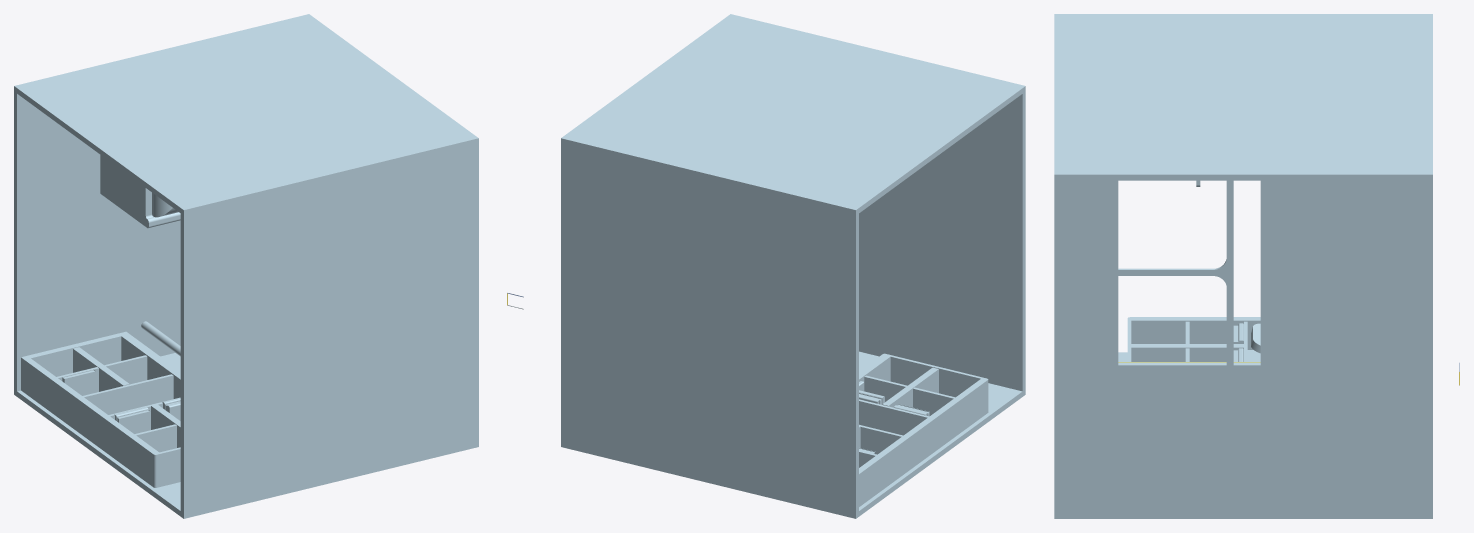
The model's file is Assembly.gltf.
3 renders of one model, left to right at view 1: azimuth 30°, elevation 25°; view 2: azimuth 150°, elevation 25°; view 3: azimuth 270°, elevation 25°, orthographic. The views are drawn at different scales.
Parts seen in each view (by area): view 1: Part 1 (×9); view 2: Part 1 (×6); view 3: Part 1 (×5).
Part boxes in pixels (left/top/right/bottom): Part 1 (×9): left=14, top=14, right=478, bottom=518; Part 1 (×6): left=561, top=14, right=1025, bottom=518; Part 1 (×5): left=1054, top=14, right=1432, bottom=518.
Bounding box in the file's own units: 1.6 × 1.4 × 1.49.
